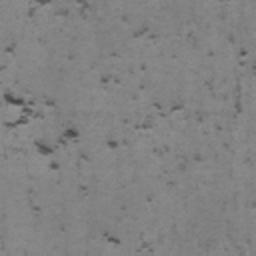Oxide scale of temperature system: (3, 11, 254, 212), (27, 0, 92, 20), (102, 230, 154, 253), (132, 24, 149, 38), (204, 238, 216, 252), (100, 74, 113, 84)
